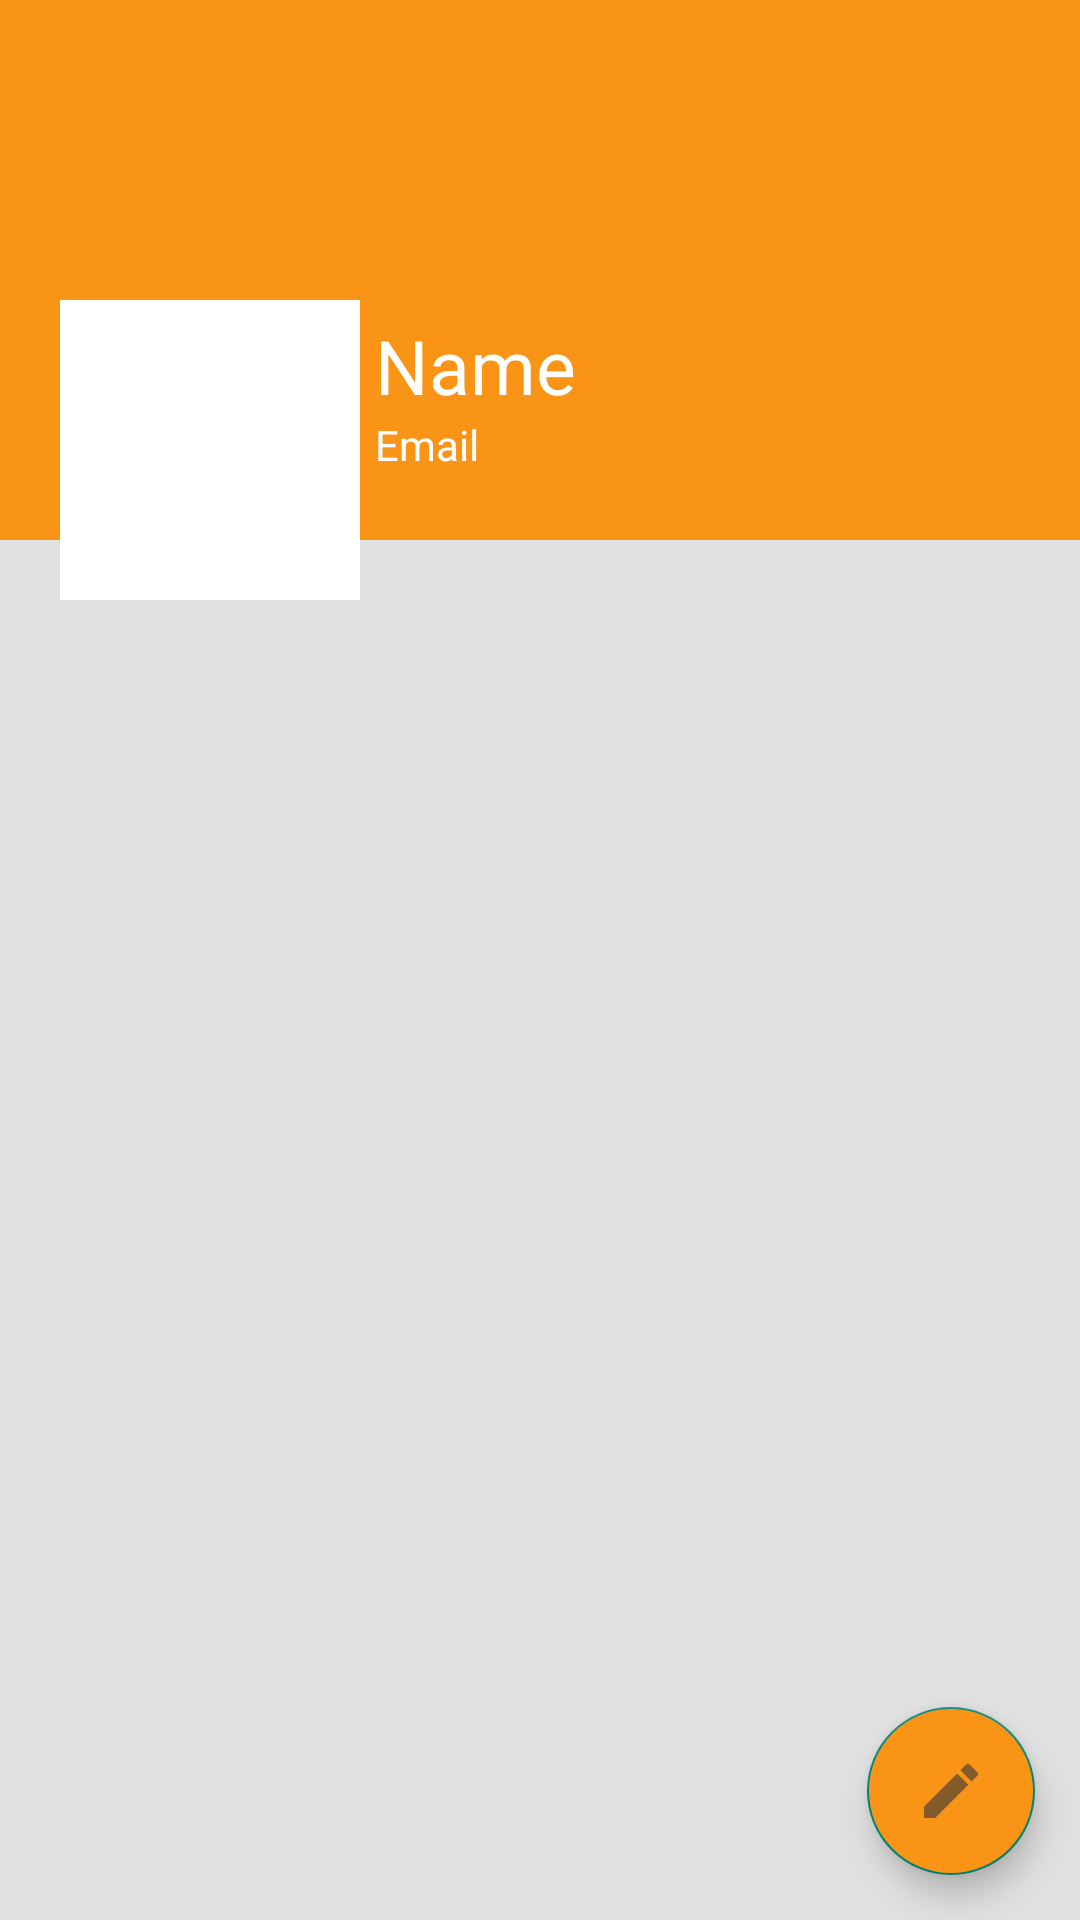

Locate icon controls on the screen. Image size 1080 x 1920, boxes as region(x1, y1, x2, y2).
edit prof: region(867, 1707, 1035, 1875)
